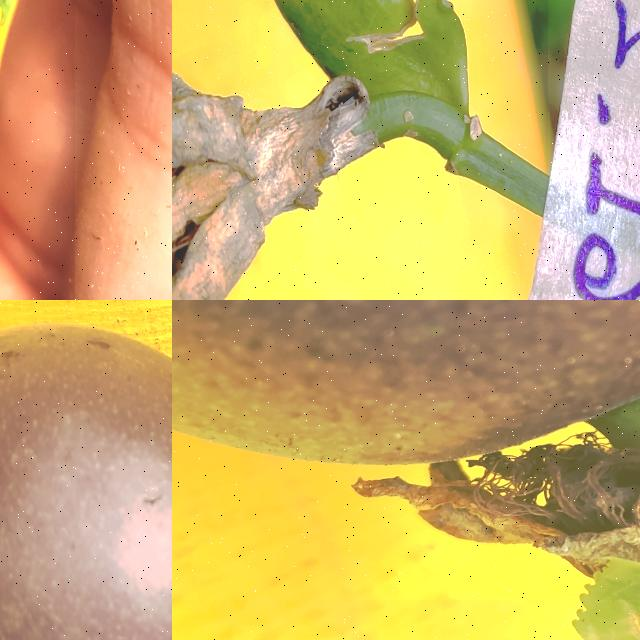Estado-2: (172, 0, 546, 300)
Estado-4: (172, 300, 640, 558)
Estado-5: (0, 327, 172, 640)
